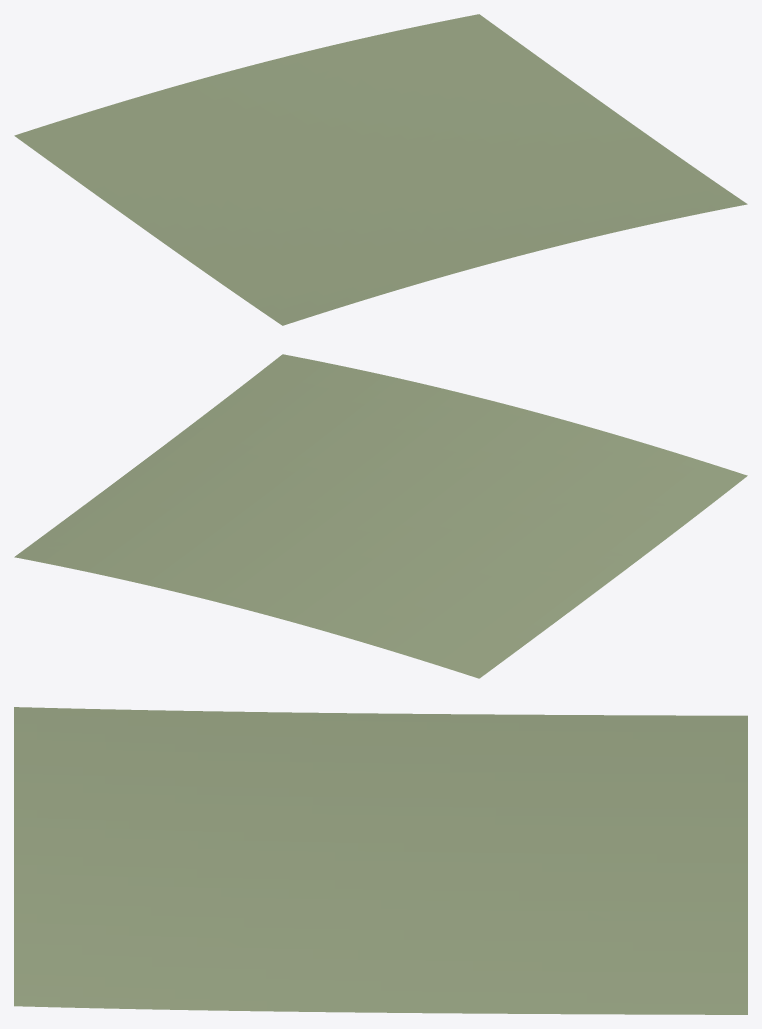
The model's file is valley-6-11.glb.
The picture shows the model from 3 angles, top to bottom: view 1: azimuth 30°, elevation 25°; view 2: azimuth 150°, elevation 25°; view 3: azimuth 270°, elevation 25°; orthographic projection. The views are drawn at different scales.
Visible parts, largest first — view 1: valley-6-11; view 2: valley-6-11; view 3: valley-6-11.
Part boxes in pixels (x1,y1,x2,y2): valley-6-11: [14, 14, 747, 325]; valley-6-11: [14, 354, 747, 678]; valley-6-11: [14, 707, 747, 1014].
Size of the model in its own units: 256 by 10.06 by 256.
